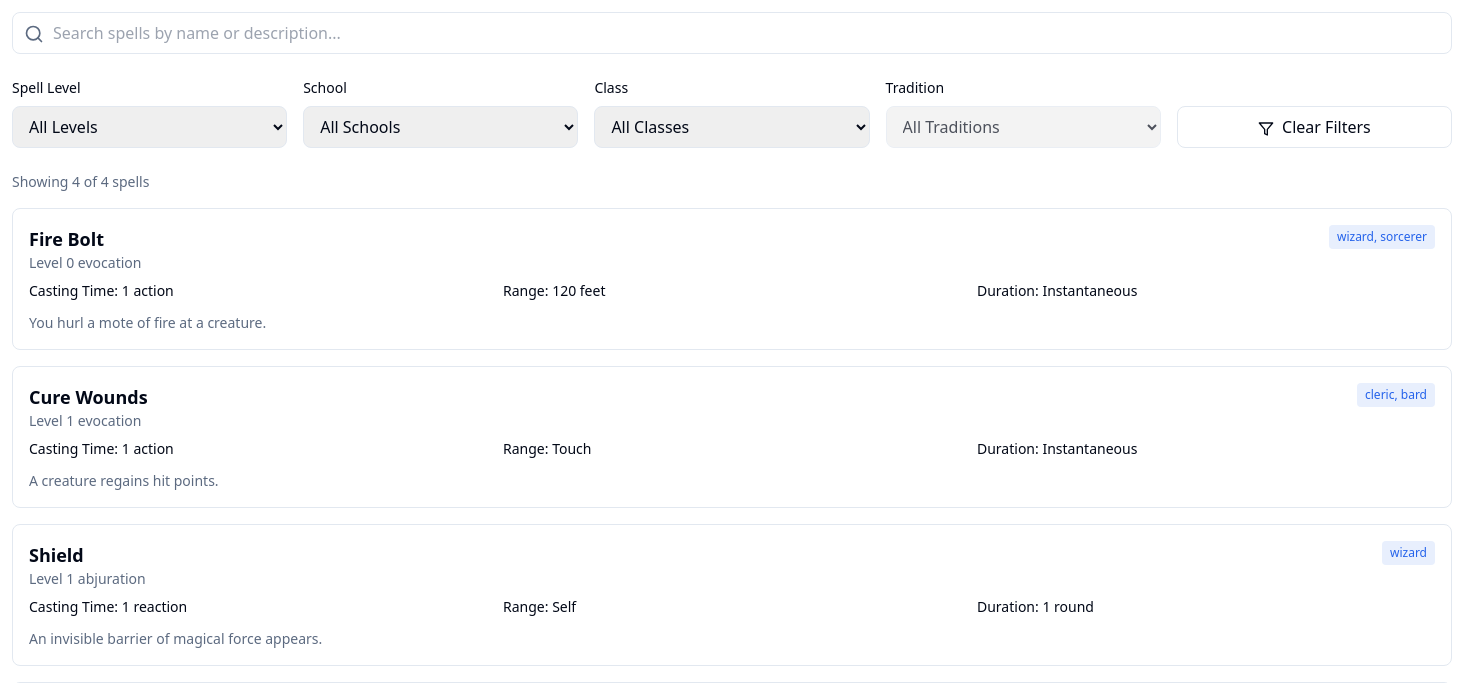
SpellBrowser › filters spells by class
This screenshot has width=1464, height=683.
Select "Cleric" in the dropdown named "Filter by class": [732, 127] box top-left (594, 106), bottom-right (870, 148)
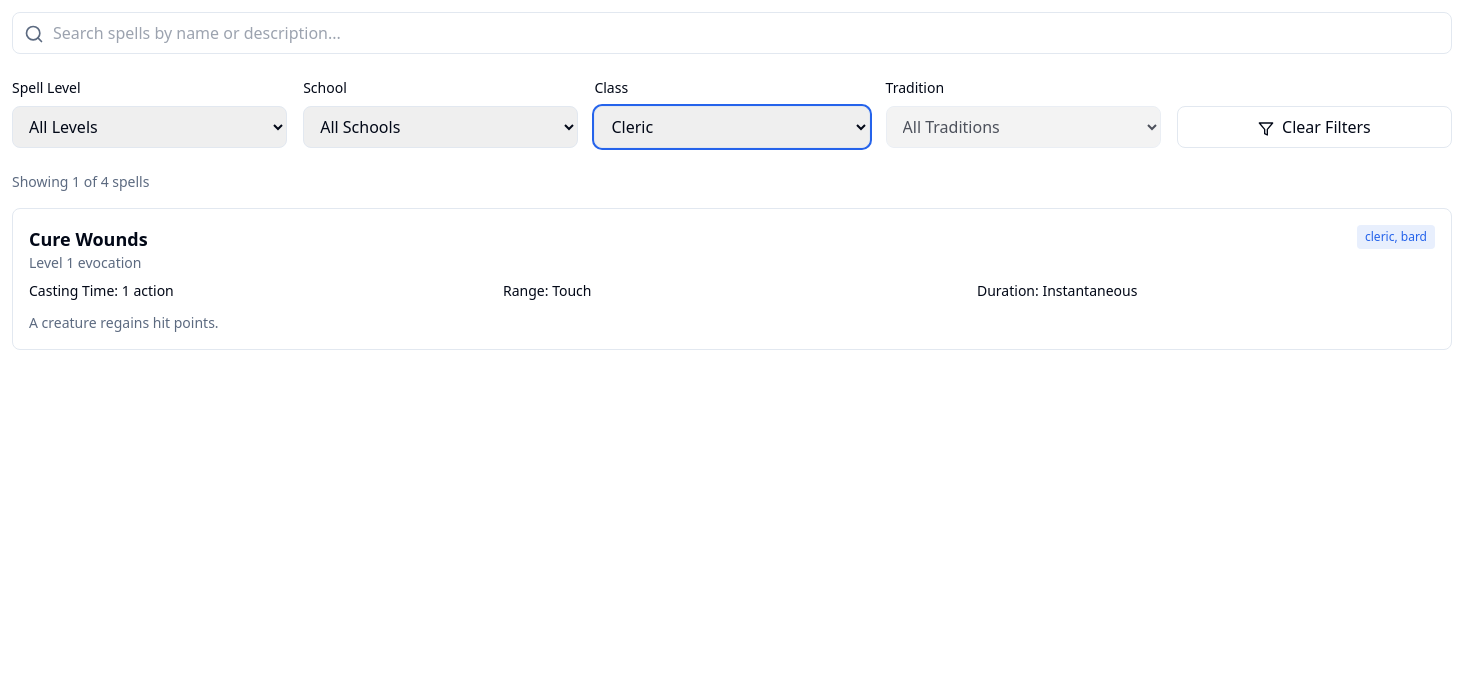
Check: the heading "Cure Wounds" is shown, box top-left (29, 225), bottom-right (148, 253)
Check: the text "Showing 1 of 4 spells" is shown, box top-left (12, 172), bottom-right (150, 191)
Check: the button "Fire Bolt" is gone
